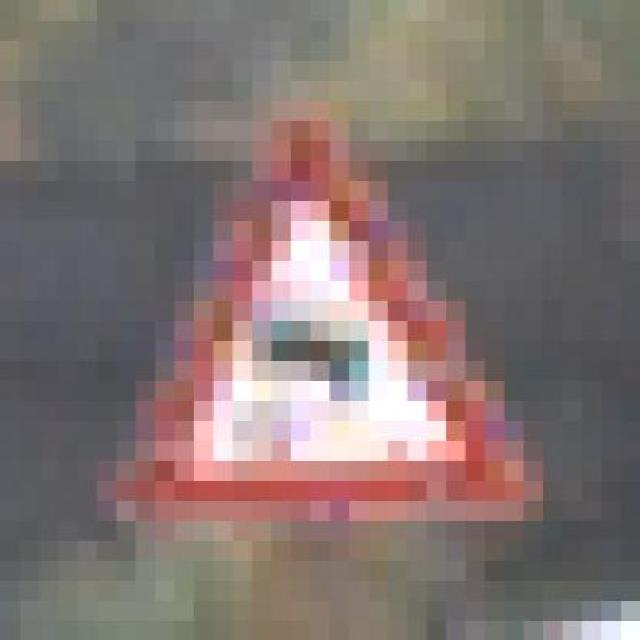Slippery Road Ahead: (97, 60, 563, 560)
